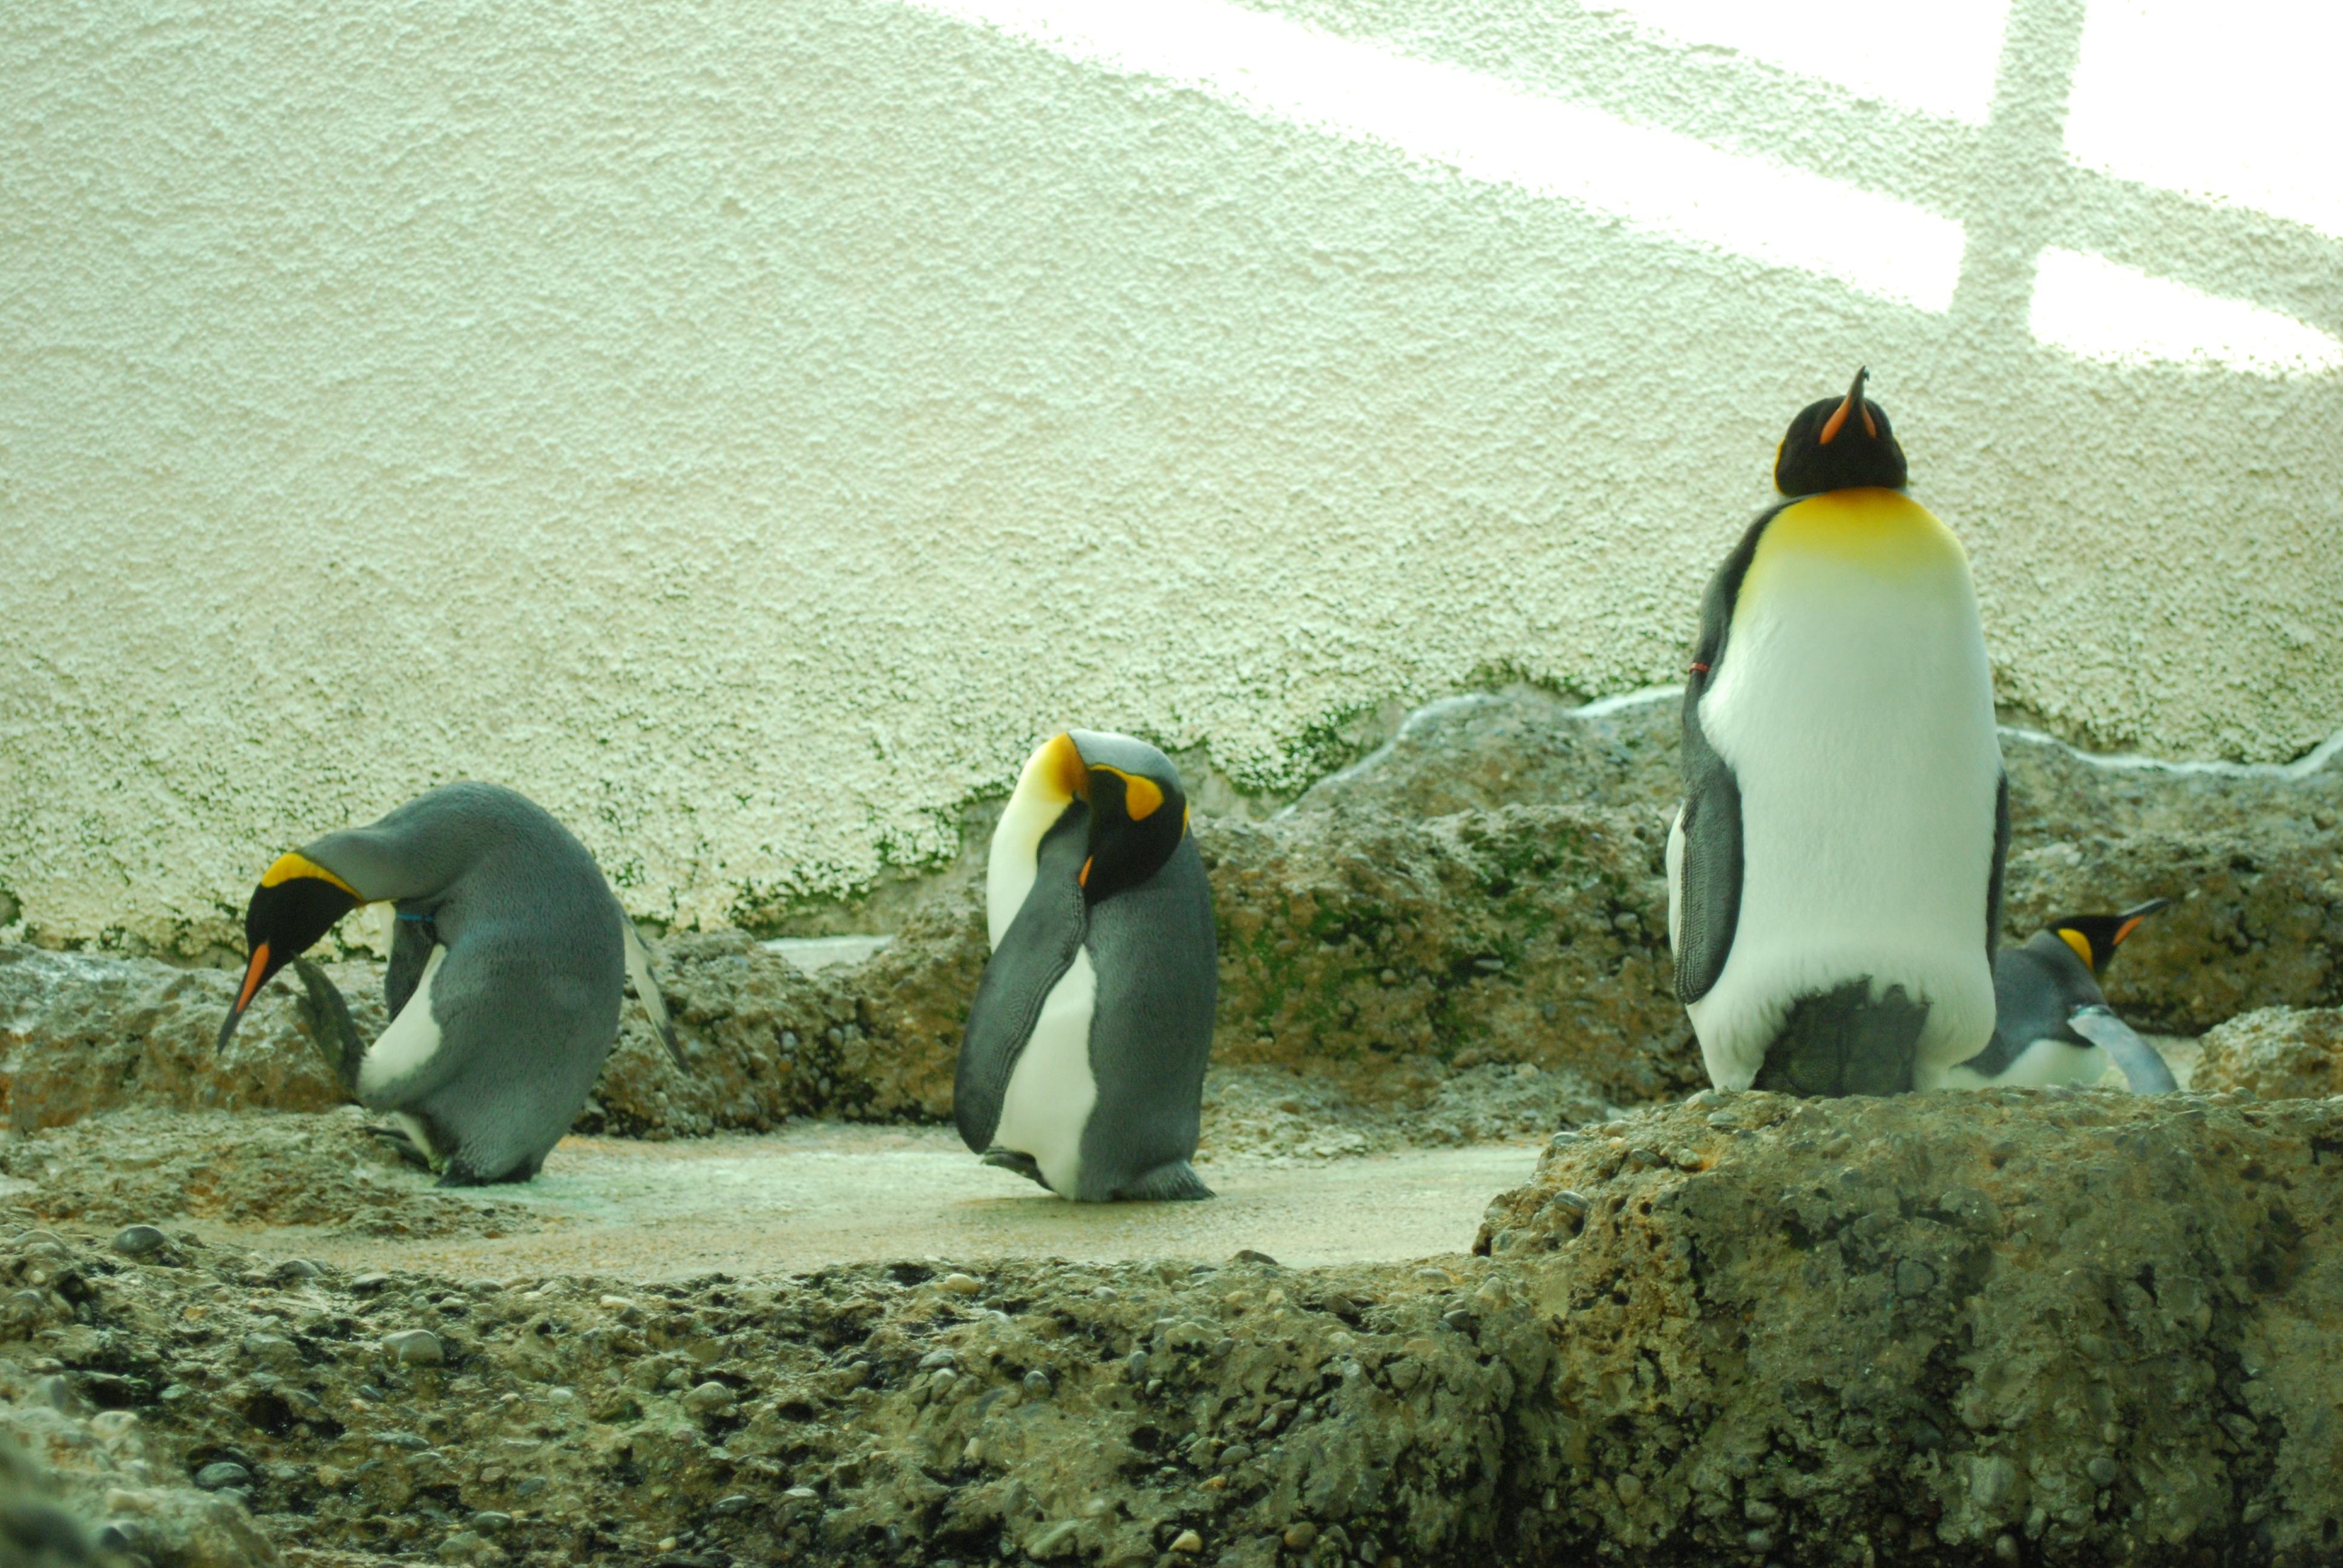penguin: (1673, 362, 2025, 1097), (215, 781, 646, 1209), (980, 723, 1256, 1241)
